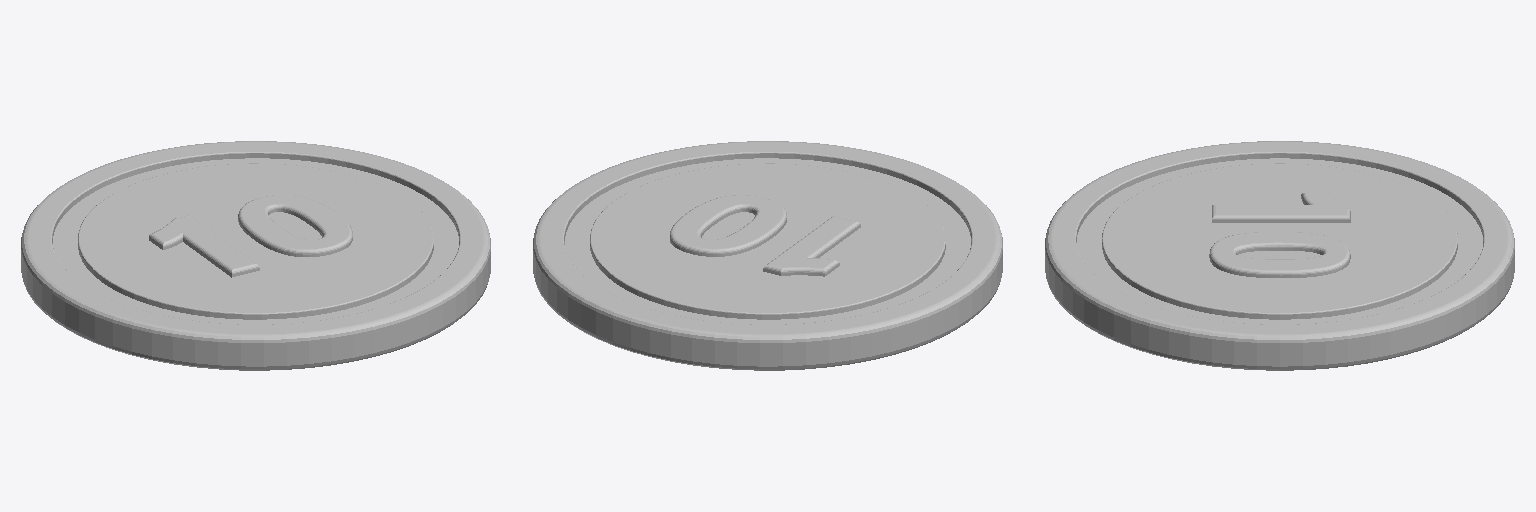
The model's file is poker_chip_10.obj.
3 renders of one model, left to right at view 1: azimuth 30°, elevation 25°; view 2: azimuth 150°, elevation 25°; view 3: azimuth 270°, elevation 25°, orthographic.
Visible parts, largest first — view 1: obj1; view 2: obj1; view 3: obj1.
Part boxes in pixels (x1,y1,x2,y2): obj1: (21, 141, 490, 370); obj1: (533, 141, 1002, 370); obj1: (1045, 141, 1514, 370).
Bounding box in the file's own units: 0.0802 × 0.0091 × 0.0802.